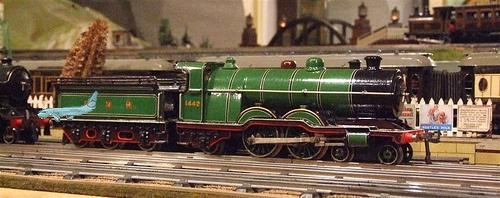tampered: (38, 92, 98, 122)
